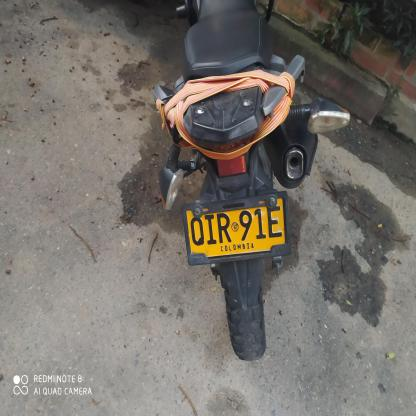placa: (180, 189, 292, 267)
